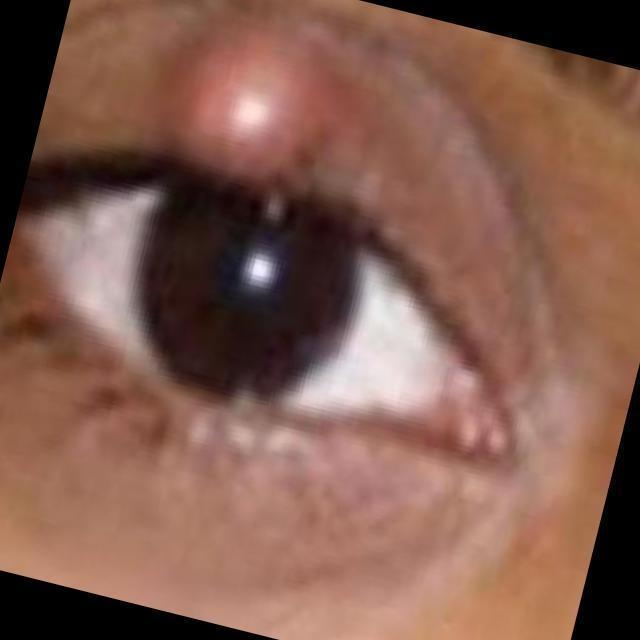Stye: (93, 0, 394, 268)
